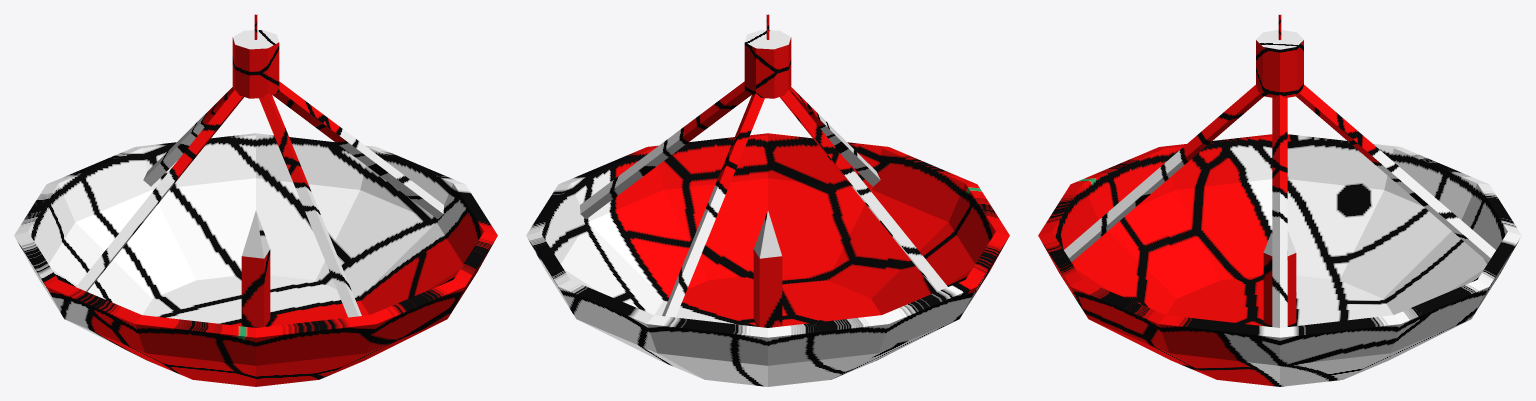
File: kamesuta_antenna.obj
The picture shows the model from 3 angles, left to right: view 1: azimuth 30°, elevation 25°; view 2: azimuth 150°, elevation 25°; view 3: azimuth 270°, elevation 25°; orthographic projection.
Visible parts, largest first — view 1: Cylinder.001, Cylinder.005_Cylinder.004, Cylinder.006_Cylinder.004, Cylinder.004, Cylinder.008_Cylinder.005, Cylinder.003, Cylinder.007_Cylinder.004; view 2: Cylinder.001, Cylinder.007_Cylinder.004, Cylinder.006_Cylinder.004, Cylinder.004, Cylinder.008_Cylinder.005, Cylinder.003, Cylinder.005_Cylinder.004; view 3: Cylinder.001, Cylinder.005_Cylinder.004, Cylinder.007_Cylinder.004, Cylinder.006_Cylinder.004, Cylinder.008_Cylinder.005, Cylinder.003.
Part boxes in pixels (left/top/right/bottom): Cylinder.001: left=14, top=133, right=497, bottom=386; Cylinder.005_Cylinder.004: left=259, top=93, right=361, bottom=317; Cylinder.006_Cylinder.004: left=273, top=81, right=443, bottom=219; Cylinder.004: left=76, top=90, right=243, bottom=291; Cylinder.008_Cylinder.005: left=232, top=30, right=279, bottom=98; Cylinder.003: left=241, top=210, right=270, bottom=327; Cylinder.007_Cylinder.004: left=143, top=87, right=233, bottom=186; Cylinder.001: left=526, top=133, right=1009, bottom=386; Cylinder.007_Cylinder.004: left=662, top=93, right=764, bottom=317; Cylinder.006_Cylinder.004: left=580, top=81, right=750, bottom=219; Cylinder.004: left=780, top=90, right=947, bottom=291; Cylinder.008_Cylinder.005: left=744, top=30, right=791, bottom=98; Cylinder.003: left=753, top=210, right=782, bottom=327; Cylinder.005_Cylinder.004: left=790, top=87, right=880, bottom=186; Cylinder.001: left=1038, top=134, right=1521, bottom=386; Cylinder.005_Cylinder.004: left=1064, top=85, right=1263, bottom=262; Cylinder.007_Cylinder.004: left=1296, top=85, right=1495, bottom=262; Cylinder.006_Cylinder.004: left=1272, top=95, right=1287, bottom=327; Cylinder.008_Cylinder.005: left=1256, top=30, right=1303, bottom=98; Cylinder.003: left=1263, top=230, right=1296, bottom=326.
Size of the model in its own units: 3.82 by 3.1 by 3.82.
